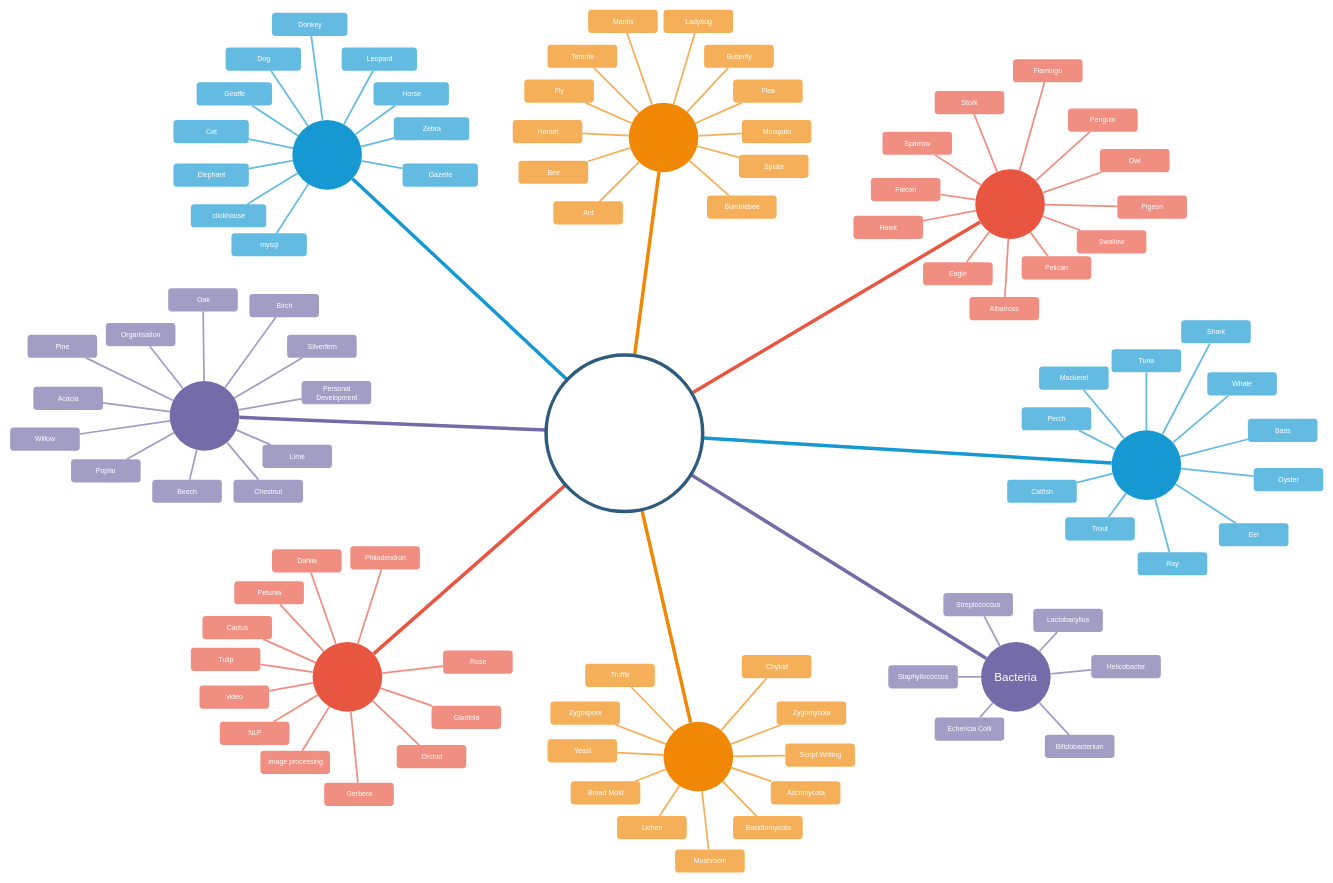
Image size: 1333x883. Some labels were removed from this diagram. Each missing label, with the centre of its shape:
"AI" goes at point (624, 433).
"algorithms" goes at point (204, 415).
"applications" goes at point (347, 676).
"big data" goes at point (327, 154).
"Bird" goes at point (1010, 204).
"Fish" goes at point (1146, 465).
"Fungi" goes at point (698, 756).
"Insect" goes at point (663, 137).
